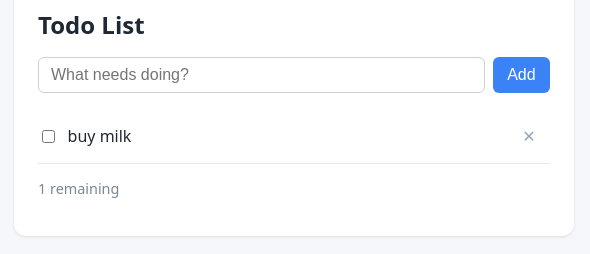
Test case: App › deletes a todo
The width and height of the screenshot is (590, 254).
Step 1. Click the button named "delete buy milk" → (529, 136), box x1=508 y1=119 x2=550 y2=154
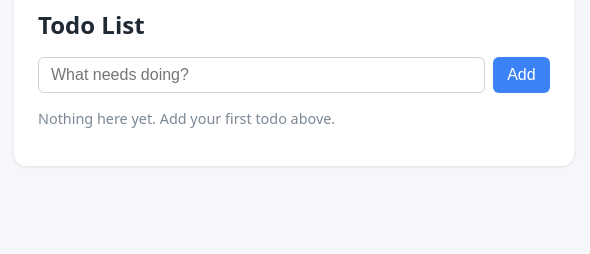
Result: the text "Nothing here yet. Add your first todo above." is shown at x1=38 y1=109 x2=335 y2=128
